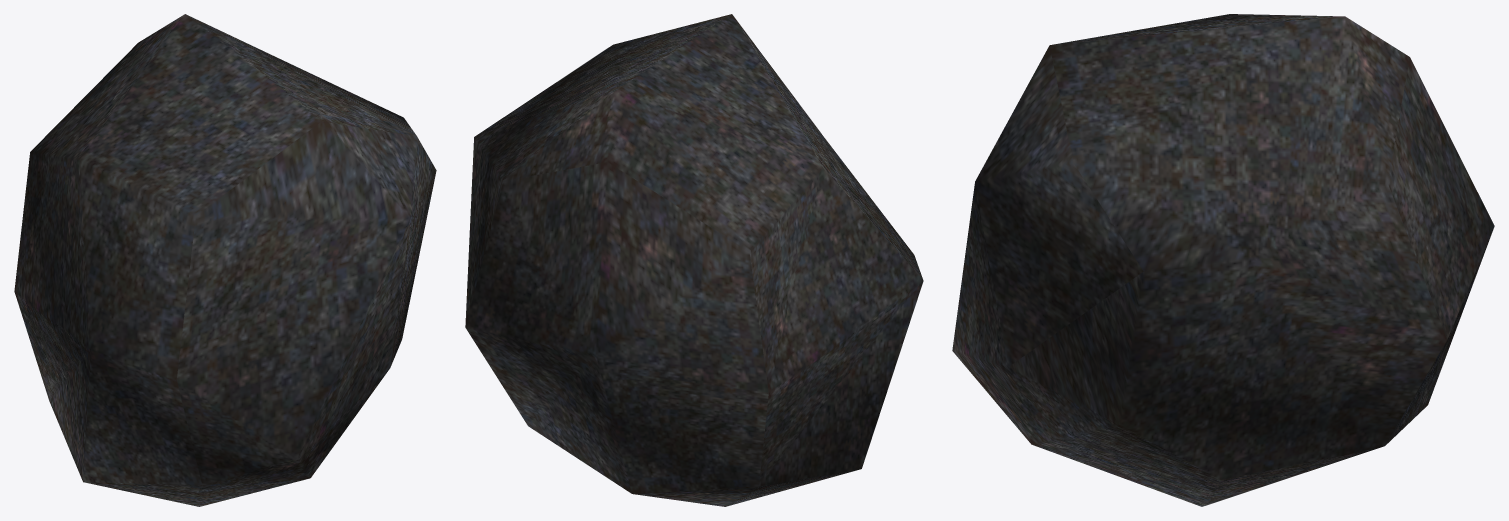
File: asteroid_metal_radial_s01_l2.fbx
3 renders of one model, left to right at view 1: azimuth 30°, elevation 25°; view 2: azimuth 150°, elevation 25°; view 3: azimuth 270°, elevation 25°, orthographic. The views are drawn at different scales.
Visible parts, largest first — view 1: mesh_node; view 2: mesh_node; view 3: mesh_node.
Boxes of the visible parts, x1=… form: mesh_node: x1=14, y1=14, x2=436, y2=506; mesh_node: x1=465, y1=14, x2=923, y2=506; mesh_node: x1=952, y1=14, x2=1494, y2=506.
Bounding box in the file's own units: 4.5 × 5.02 × 4.77.
